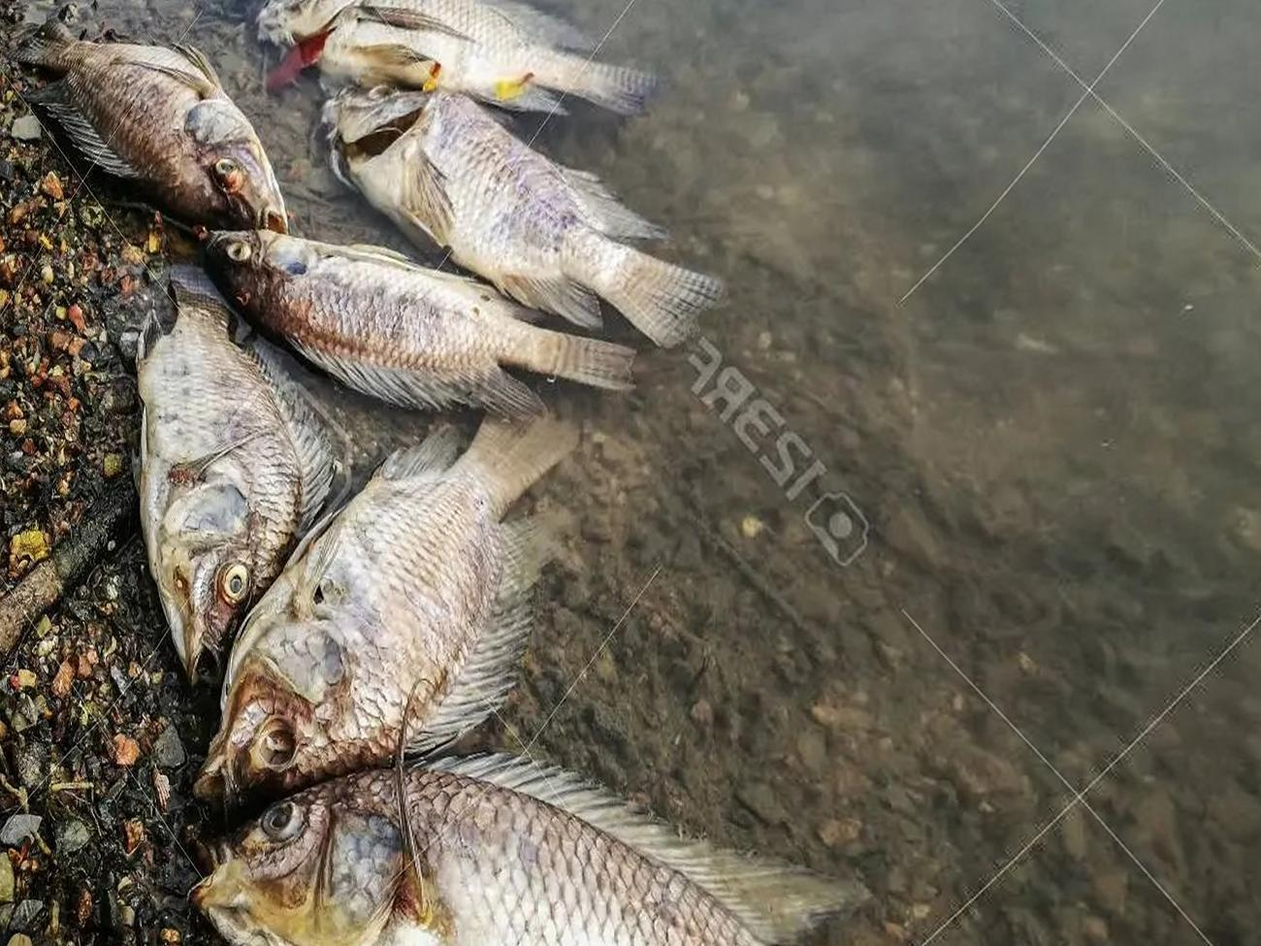Dead Animals Pollution: (32, 0, 894, 946)
